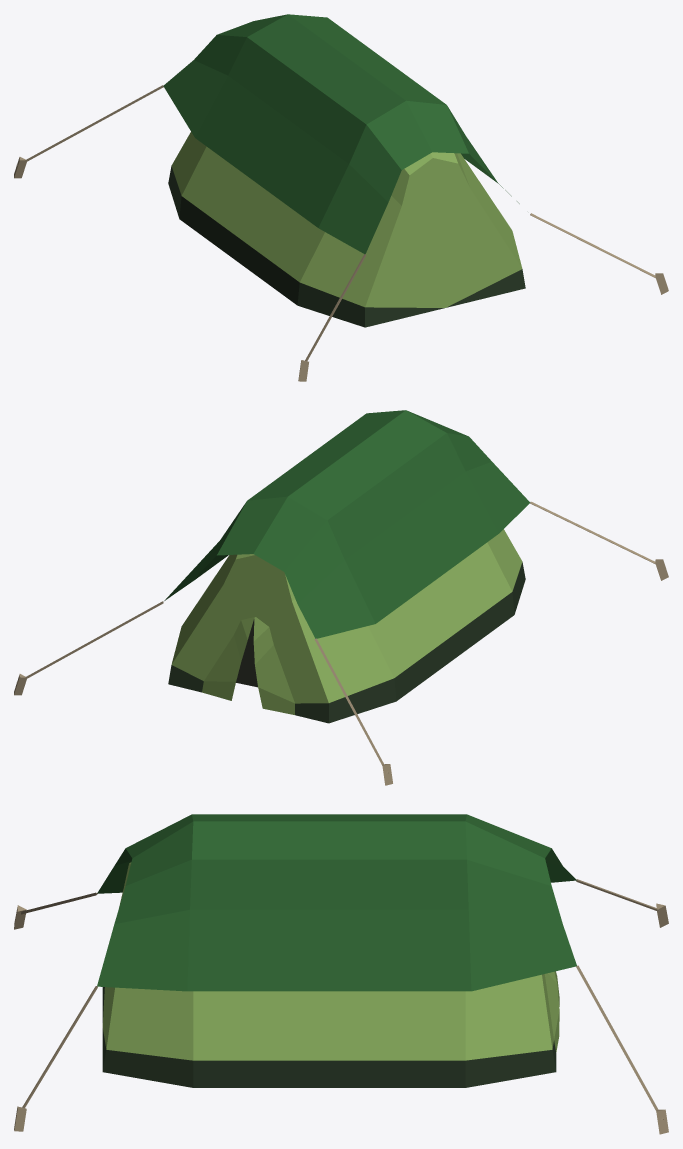
Rendered from tent.glb.
The picture shows the model from 3 angles, top to bottom: view 1: azimuth 30°, elevation 25°; view 2: azimuth 150°, elevation 25°; view 3: azimuth 270°, elevation 25°; orthographic projection. The views are drawn at different scales.
Parts seen in each view (by area): view 1: TentFly, TentInner, TentGuys; view 2: TentFly, TentInner, TentFlaps, TentGuys; view 3: TentFly, TentInner, TentGuys, TentFlaps.
Part boxes in pixels (x1,y1,x2,y2): TentFly: [163, 14, 519, 254]; TentInner: [168, 132, 525, 327]; TentGuys: [14, 85, 668, 381]; TentFly: [164, 410, 530, 638]; TentInner: [168, 529, 525, 723]; TentFlaps: [202, 617, 294, 714]; TentGuys: [14, 501, 668, 785]; TentFly: [97, 814, 576, 991]; TentInner: [102, 862, 556, 1087]; TentGuys: [14, 879, 668, 1134]; TentFlaps: [545, 971, 559, 1051].
Size of the model in its own units: 2.45 by 1.12 by 3.18.
